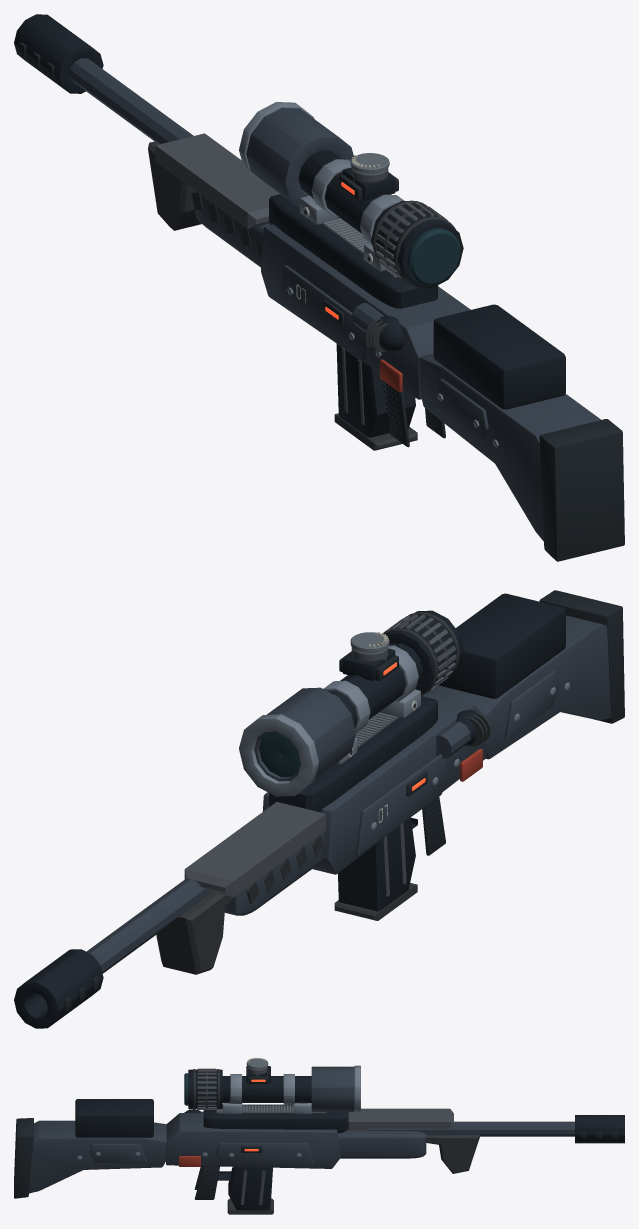
File: sniper.glb
The picture shows the model from 3 angles, top to bottom: view 1: azimuth 30°, elevation 25°; view 2: azimuth 150°, elevation 25°; view 3: azimuth 270°, elevation 25°; orthographic projection. The views are drawn at different scales.
Parts seen in each view (by area): view 1: body, mag, bolt; view 2: body, mag, bolt; view 3: body, mag.
Part boxes in pixels (box(x1,y1,x2,y2)): body: box(14, 14, 624, 561); mag: box(334, 344, 417, 450); bolt: box(352, 303, 403, 352); body: box(14, 590, 624, 1028); mag: box(334, 817, 417, 920); bolt: box(436, 710, 490, 758); body: box(14, 1057, 624, 1199); mag: box(227, 1166, 273, 1214).
Bounding box in the file's own units: 0.2255 × 0.5595 × 2.1.
